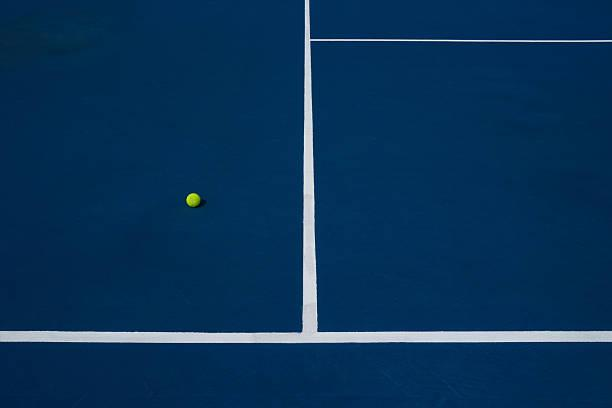ball_tennis: (184, 192, 201, 207)
